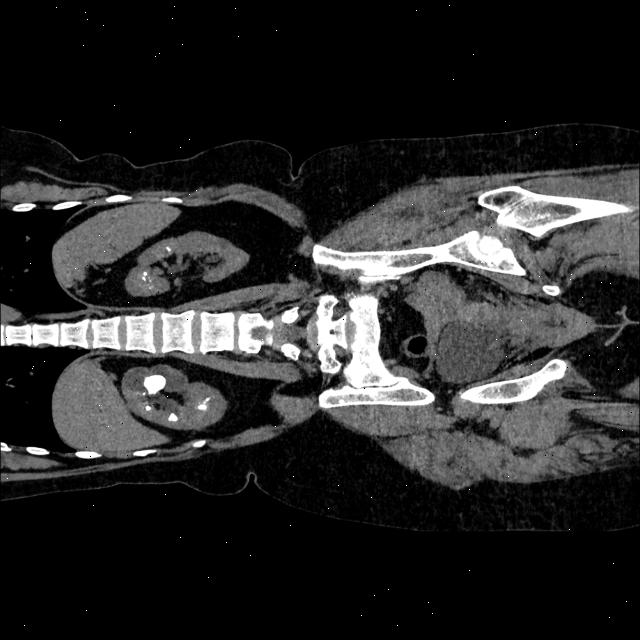kidneystone: (144, 374, 166, 394), (198, 396, 209, 409), (168, 411, 179, 421)
